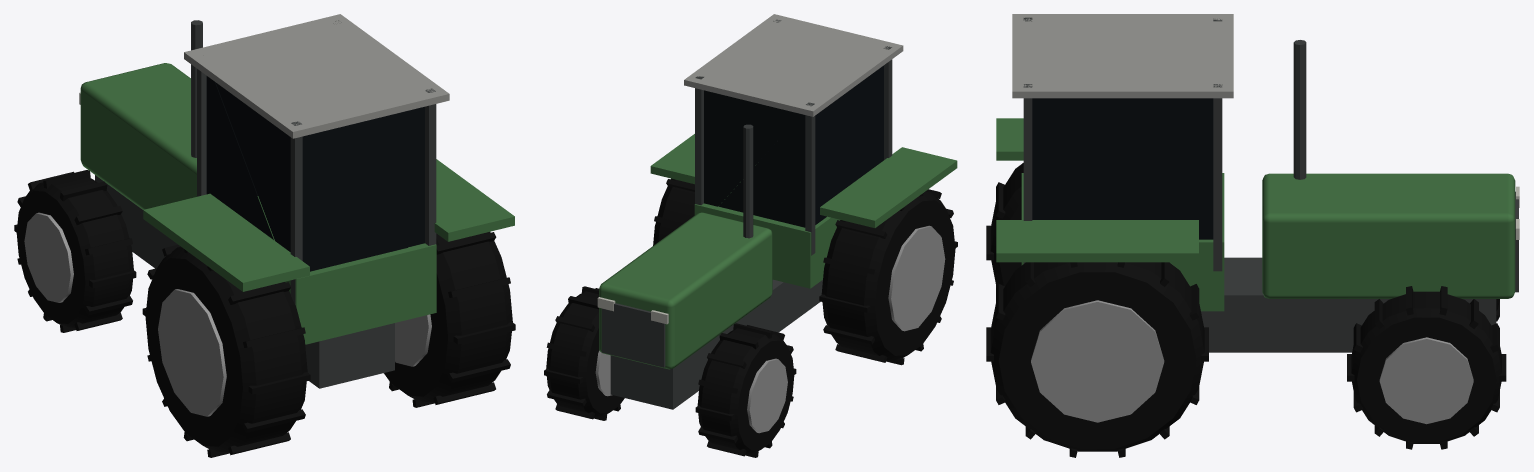
The model's file is vehicle.farm.tractor_green.glb.
3 renders of one model, left to right at view 1: azimuth 30°, elevation 25°; view 2: azimuth 150°, elevation 25°; view 3: azimuth 270°, elevation 25°, orthographic. The views are drawn at different scales.
Parts seen in each view (by area): view 1: main__rubber, main__enamel_474, main__glass_dark, main__enamel_998, main__paint_999, main__paint_333, main__steel_333; view 2: main__rubber, main__enamel_474, main__glass_dark, main__paint_333, main__enamel_998, main__paint_999, main__steel_333; view 3: main__enamel_474, main__rubber, main__glass_dark, main__enamel_998, main__paint_999, main__paint_333, main__steel_333.
Boxes of the visible parts, x1,y1,x2,y2 form: main__rubber: [14, 170, 515, 457]; main__enamel_474: [80, 63, 514, 344]; main__glass_dark: [206, 76, 424, 271]; main__enamel_998: [184, 14, 449, 138]; main__paint_999: [24, 212, 431, 416]; main__paint_333: [95, 20, 436, 388]; main__steel_333: [191, 20, 202, 157]; main__rubber: [544, 178, 957, 457]; main__enamel_474: [599, 134, 957, 369]; main__glass_dark: [704, 65, 883, 227]; main__paint_333: [601, 19, 892, 409]; main__enamel_998: [684, 14, 903, 116]; main__paint_999: [595, 225, 945, 433]; main__steel_333: [743, 124, 753, 238]; main__enamel_474: [996, 118, 1515, 311]; main__rubber: [986, 163, 1506, 457]; main__glass_dark: [1032, 98, 1213, 239]; main__enamel_998: [1012, 14, 1233, 98]; main__paint_999: [1031, 300, 1473, 424]; main__paint_333: [1023, 17, 1518, 352]; main__steel_333: [1293, 40, 1306, 179].
Size of the model in its own units: 2.56 by 2.97 by 4.22.
